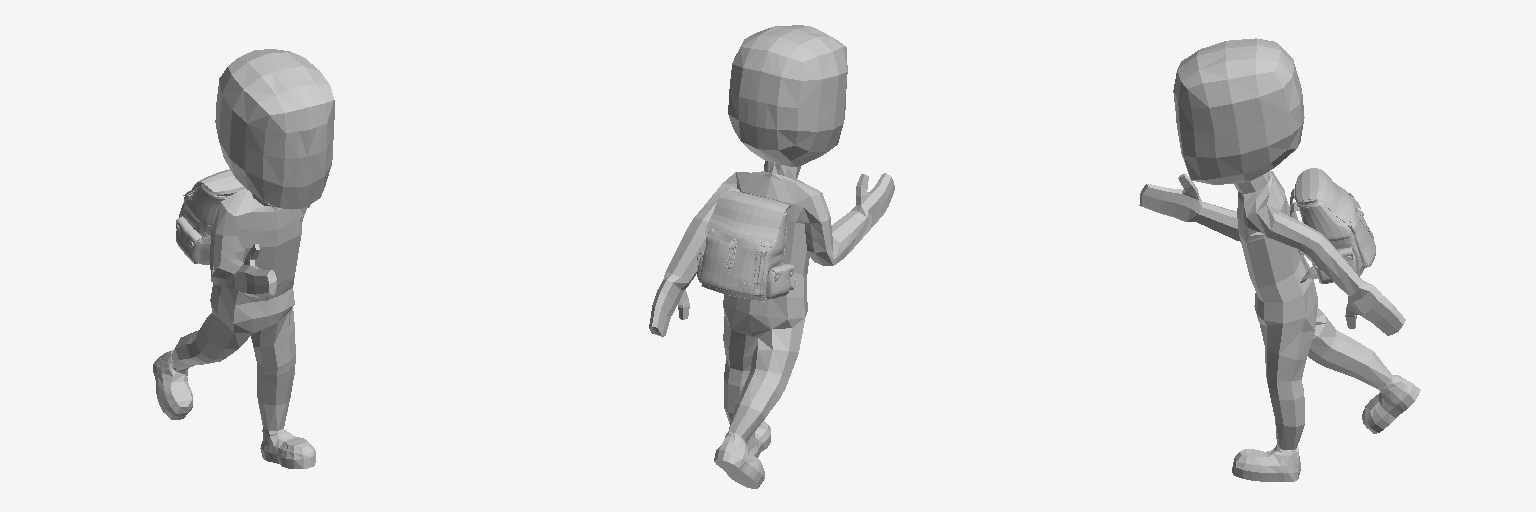
The model's file is player_correndo_5.obj.
3 views of the same model, side by side, from view 1: azimuth 30°, elevation 25°; view 2: azimuth 150°, elevation 25°; view 3: azimuth 270°, elevation 25° (orthographic).
Parts seen in each view (by area): view 1: characterMedium, Cube; view 2: characterMedium, Cube; view 3: characterMedium, Cube.
Part boxes in pixels (x1,y1,x2,y2): characterMedium: (153,49,334,468); Cube: (176,169,244,265); characterMedium: (649,25,894,488); Cube: (697,191,796,301); characterMedium: (1139,38,1420,481); Cube: (1290,168,1375,283).
Size of the model in its own units: 1.16 by 3.76 by 2.27.